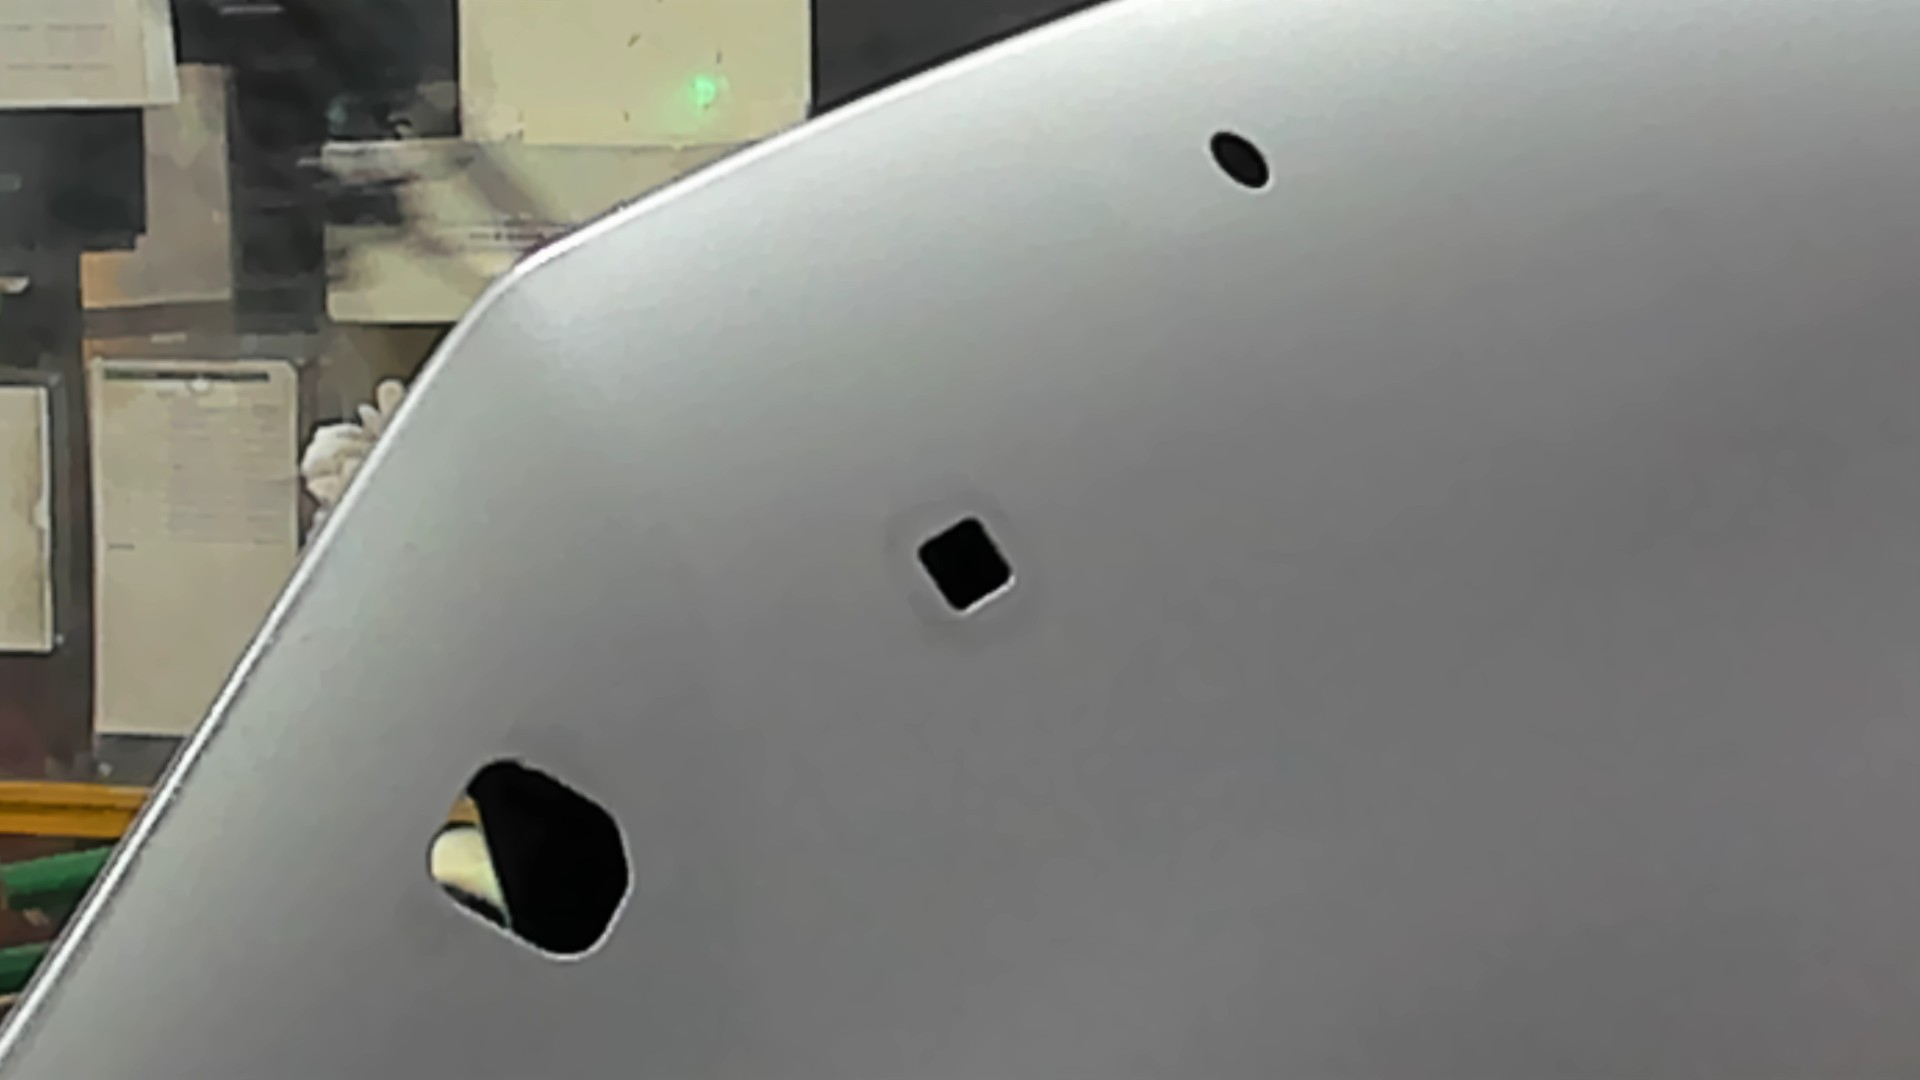chico: (1197, 124, 1288, 203)
grande: (405, 742, 669, 986)
mediano: (898, 491, 1051, 629)
